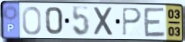0: (44, 6, 65, 37)
5: (70, 5, 91, 38)
E: (143, 6, 167, 39)
O: (21, 5, 43, 36)
P: (121, 7, 144, 38)
X: (92, 6, 115, 38)
